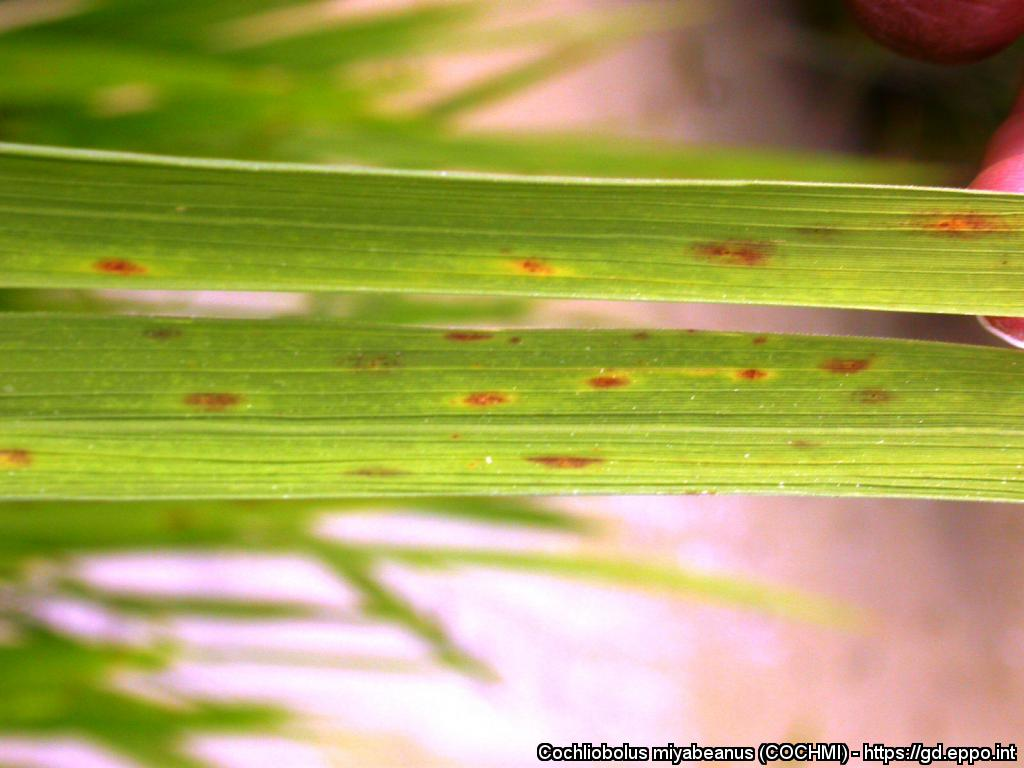Bercak Coklat: (678, 226, 781, 268), (910, 204, 1007, 246), (83, 248, 158, 285), (172, 386, 260, 416), (809, 344, 883, 379), (522, 448, 611, 477), (453, 385, 521, 416), (574, 368, 636, 396), (513, 251, 560, 284), (728, 359, 775, 391), (437, 330, 502, 347), (142, 325, 190, 346), (625, 329, 654, 347)
